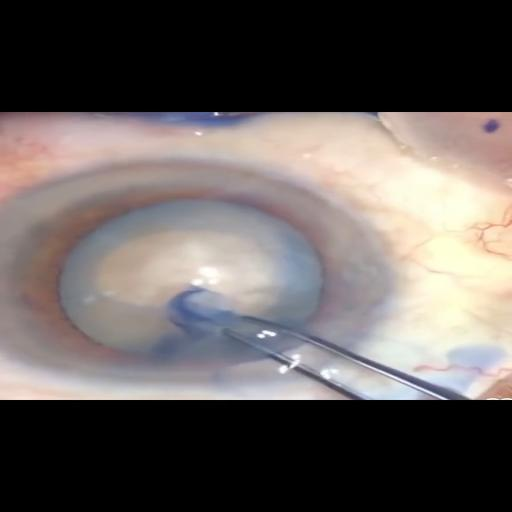catarata: (54, 202, 320, 361)
cornea: (0, 161, 396, 393)
pupil: (16, 181, 338, 369)
